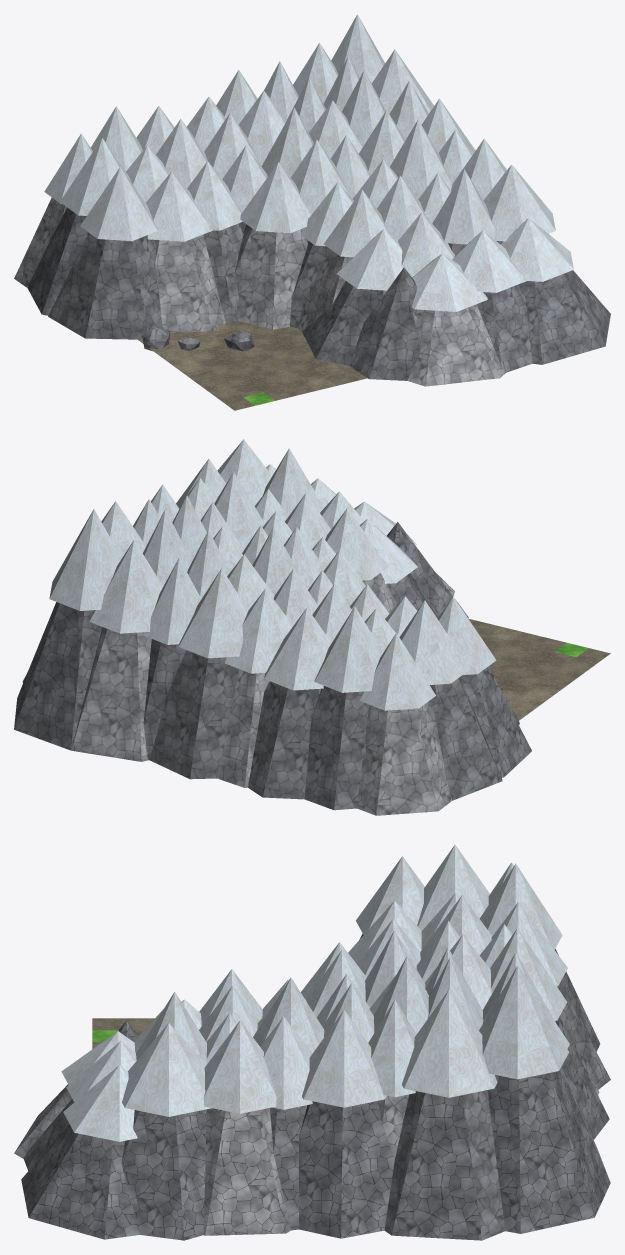
The model's file is chunk_6_0.glb.
3 views of the same model, one above another, from view 1: azimuth 30°, elevation 25°; view 2: azimuth 150°, elevation 25°; view 3: azimuth 270°, elevation 25° (orthographic). The views are drawn at different scales.
Visible parts, largest first — view 1: chunk_6_0; view 2: chunk_6_0; view 3: chunk_6_0.
Boxes of the visible parts, left/top/right/bottom form: chunk_6_0: left=14, top=14, right=610, bottom=410; chunk_6_0: left=14, top=439, right=610, bottom=815; chunk_6_0: left=14, top=844, right=610, bottom=1240.
Size of the model in its own units: 21.06 by 9.38 by 21.35.
Materials: 6 (6 with a texture image).
